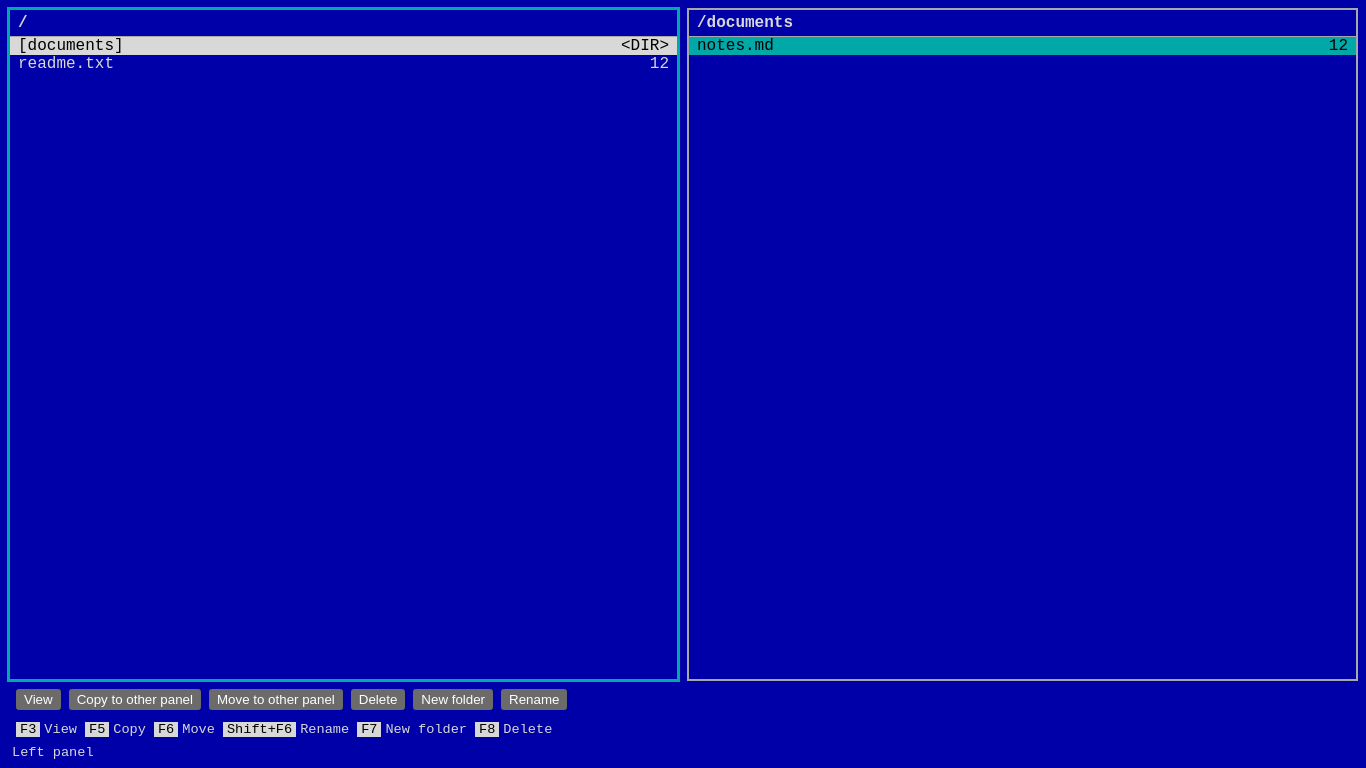
Test case: §REQ:TWO-PNL-NVGT-OOX-080 renaming the selected item › §REQ:TWO-PNL-NVGT-OOX-080 the item appears under the new name and the old name is gone
This screenshot has width=1366, height=768.
Click the option "readme.txt 12".
click(66, 64)  # box [10, 55, 677, 73]
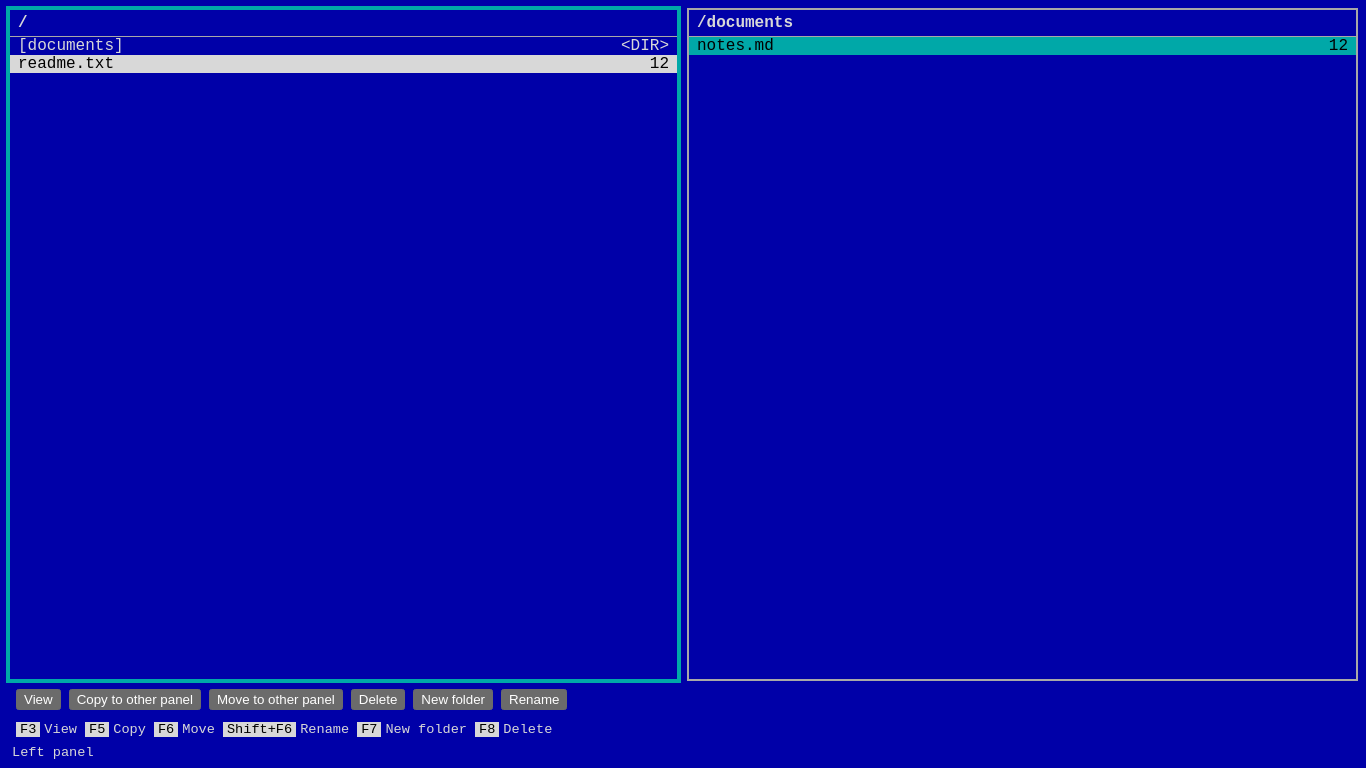
Click the button "Rename".
click(534, 700)  # box [501, 689, 568, 710]
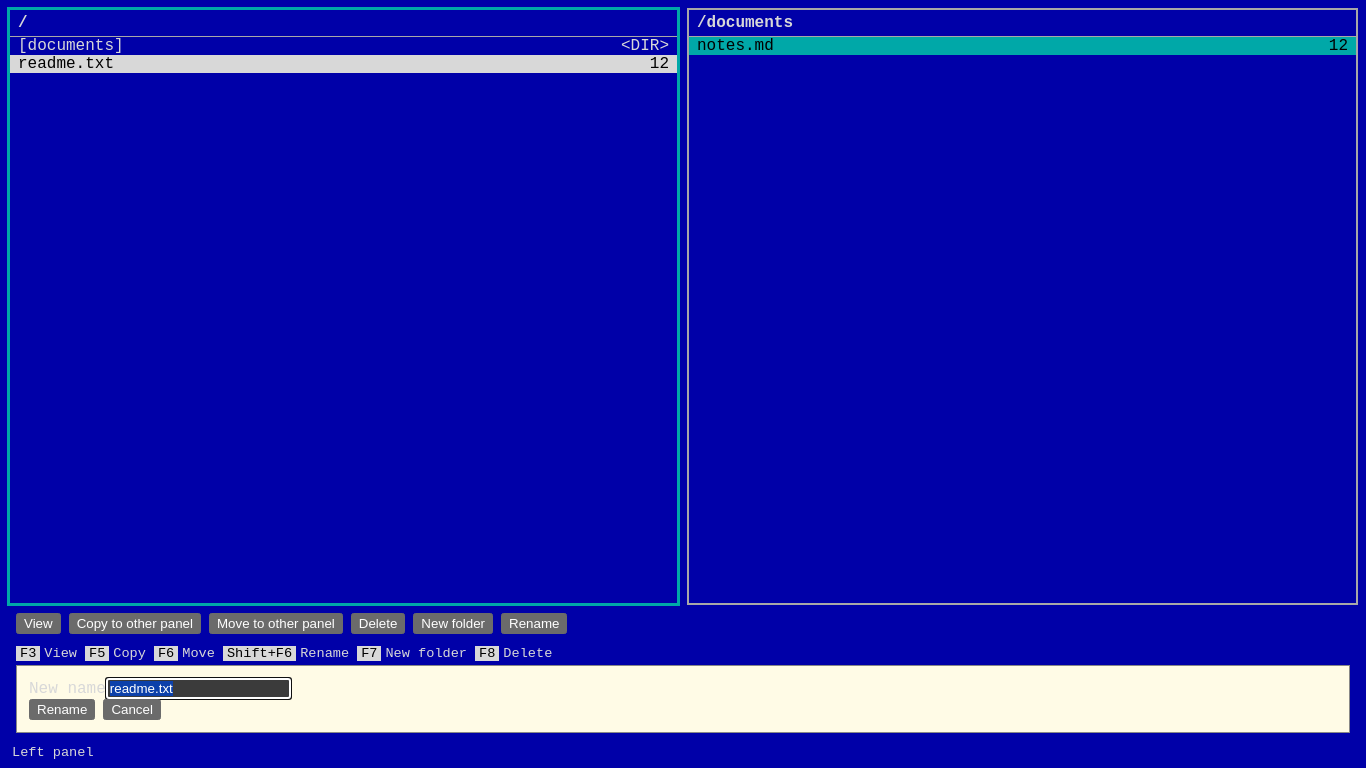
Replace the text in the field labelled "New name" with "leggimi.txt" at (198, 688), box [106, 678, 291, 699]
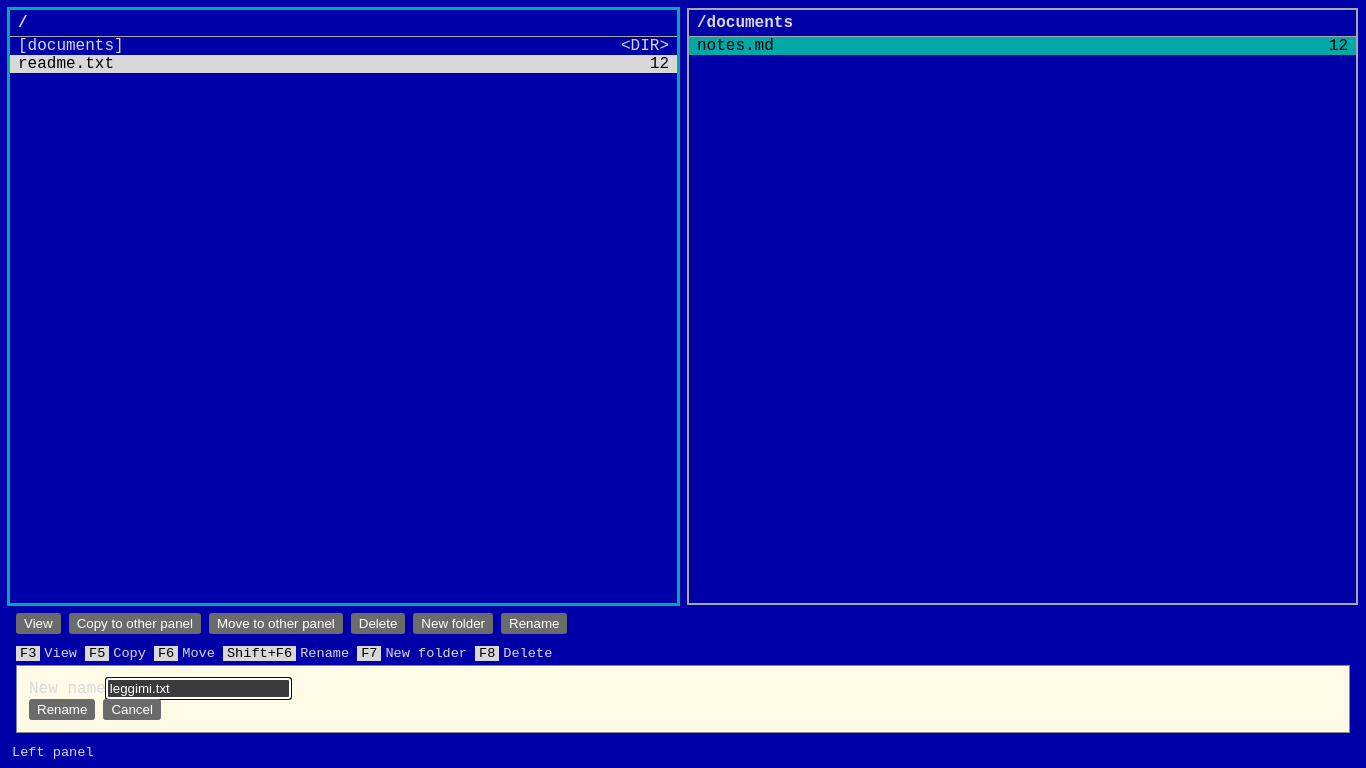
Click the button "Rename" below "New name".
click(62, 710)  # box [29, 699, 95, 720]
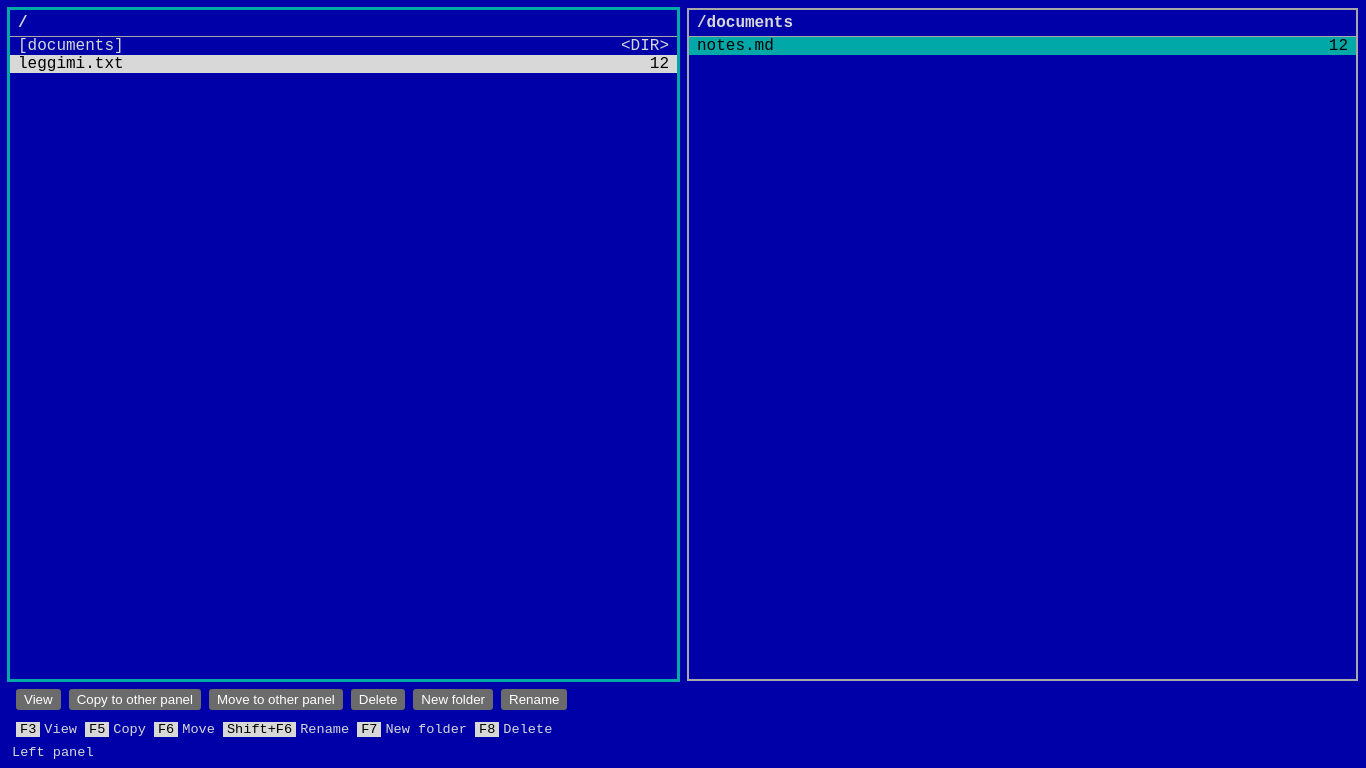
Now the option "leggimi.txt 12" is shown, box [10, 55, 677, 73]
Now the option "readme.txt" is gone
